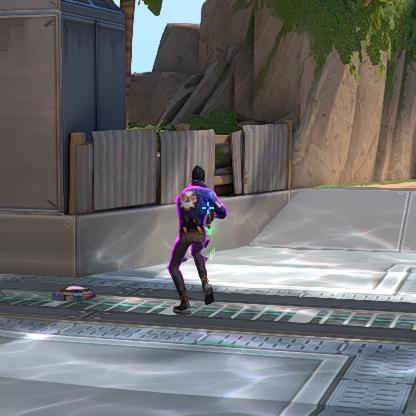enemyBody: (184, 186, 207, 223)
enemyHead: (192, 169, 204, 183)
